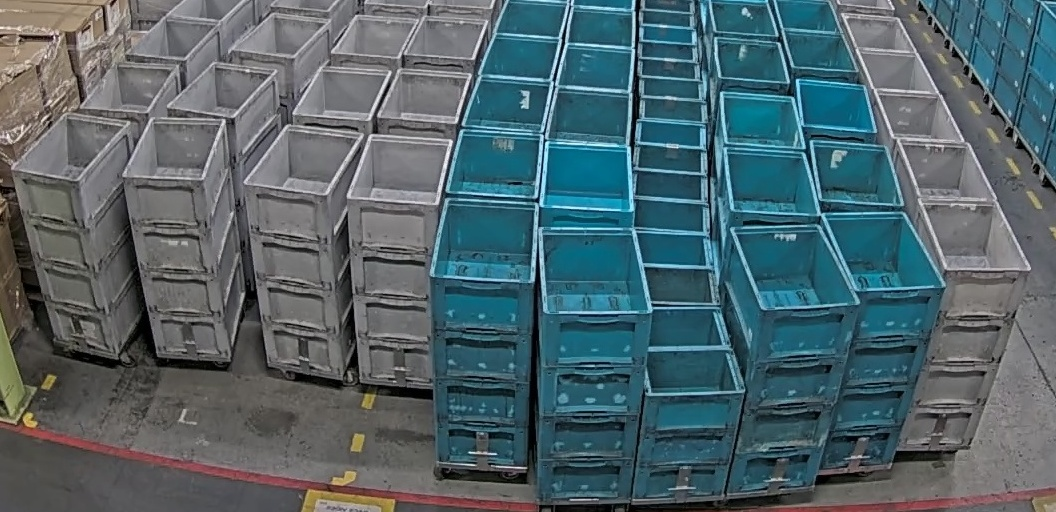4G: (896, 197, 1031, 451), (11, 111, 144, 353), (243, 124, 365, 377), (122, 117, 246, 358), (347, 134, 454, 384)
B4: (718, 223, 861, 494), (818, 211, 946, 470), (538, 228, 653, 501), (430, 197, 540, 467)
B8: (631, 307, 746, 499)
